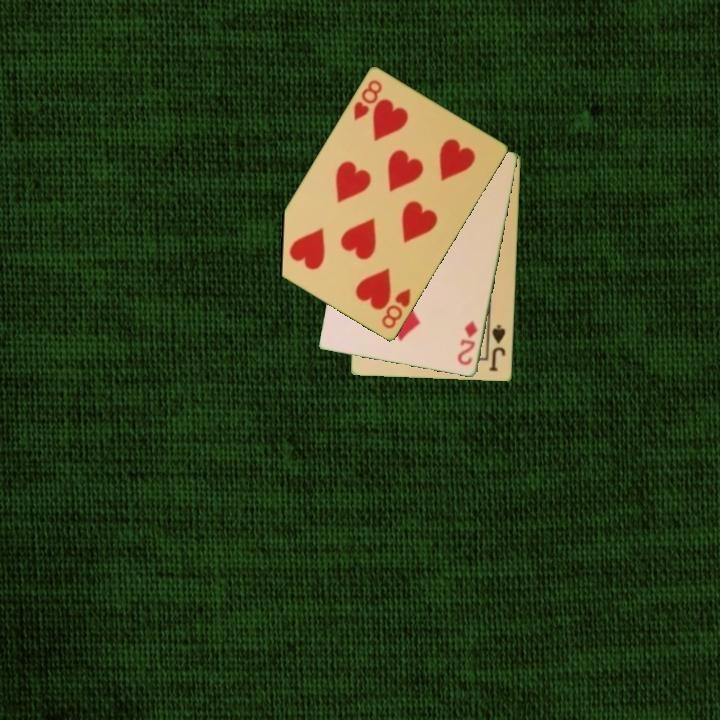2d: (454, 317, 481, 368)
8h: (378, 285, 414, 332), (350, 76, 385, 124)
Js: (486, 322, 509, 374)
